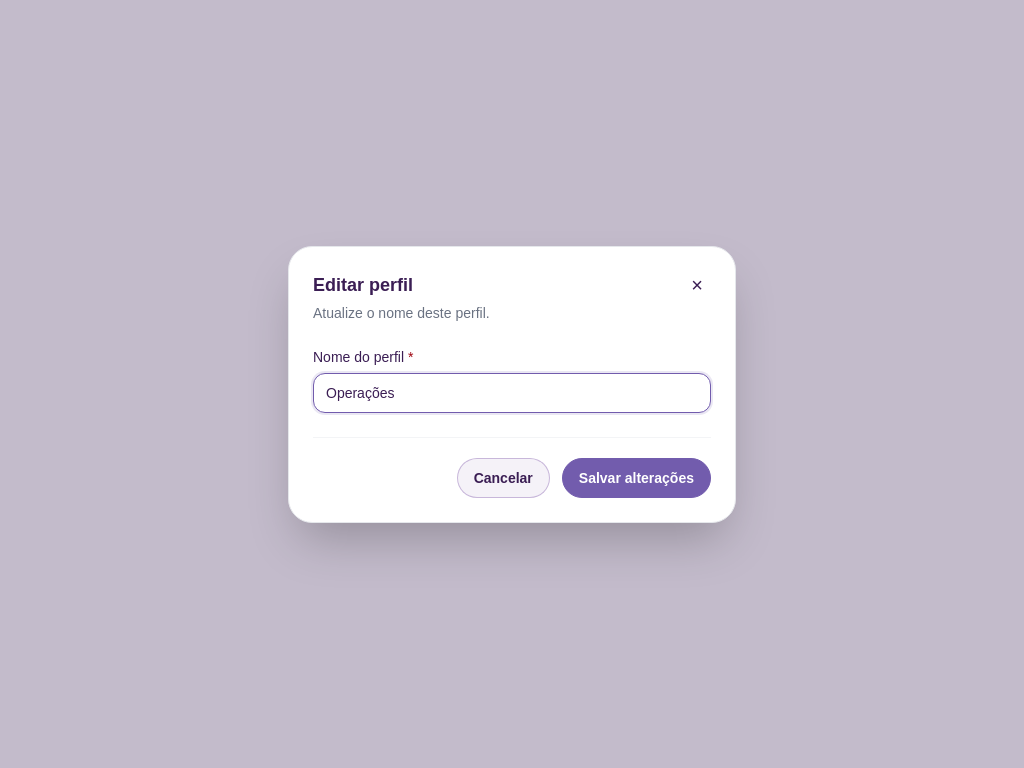
Profile modal validation and closing › shows the API error for status 403
Click the button "Salvar alterações": (636, 478) [562, 458, 711, 498]
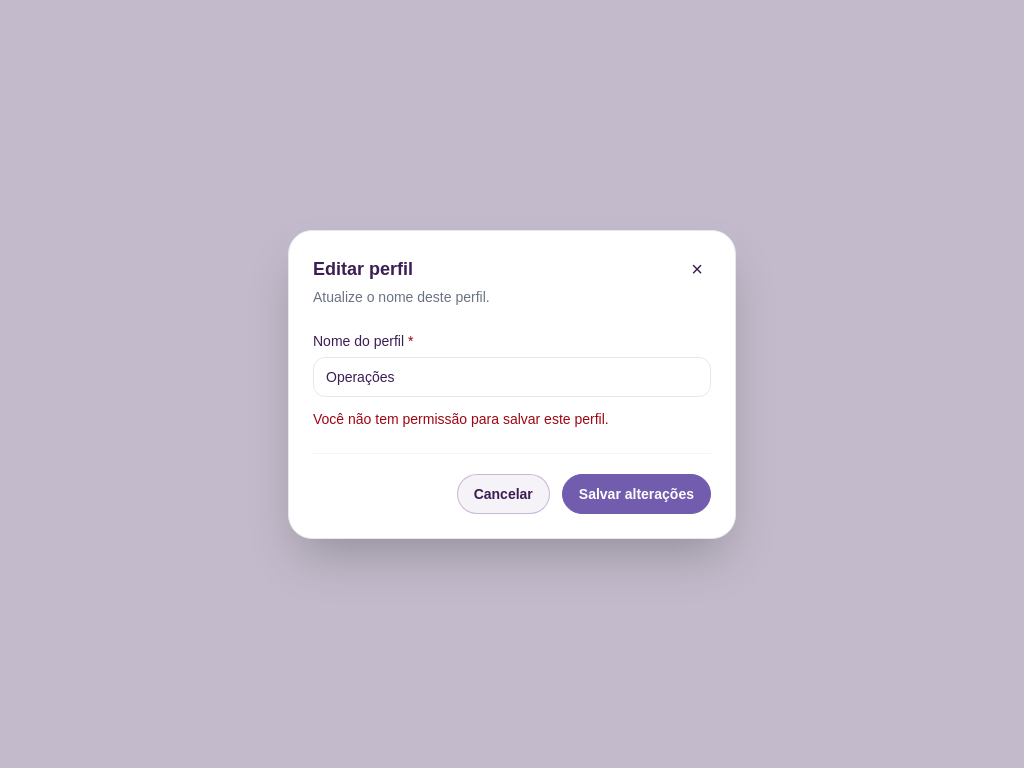
Check: the button "Salvar alterações" is enabled, box [562, 474, 711, 514]
Check: the message reads "Você não tem permissão para salvar este perfil.", box [313, 410, 609, 426]
